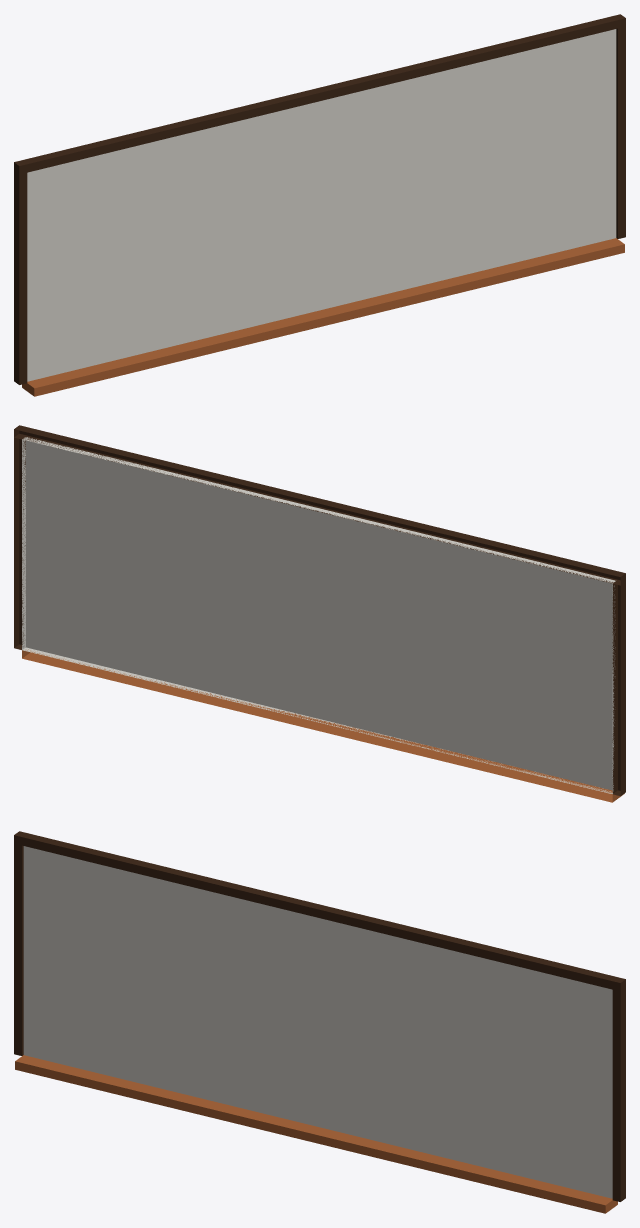
Rendered from whiteboard.glb.
3 views of the same model, one above another, from view 1: azimuth 30°, elevation 25°; view 2: azimuth 150°, elevation 25°; view 3: azimuth 330°, elevation 25° (orthographic).
Visible parts, largest first — view 1: whiteboard; view 2: whiteboard; view 3: whiteboard.
Boxes of the visible parts, left/top/right/bottom form: whiteboard: left=14, top=14, right=625, bottom=396; whiteboard: left=14, top=425, right=625, bottom=802; whiteboard: left=14, top=831, right=625, bottom=1213.
Size of the model in its own units: 4.52 by 1.62 by 0.16.
